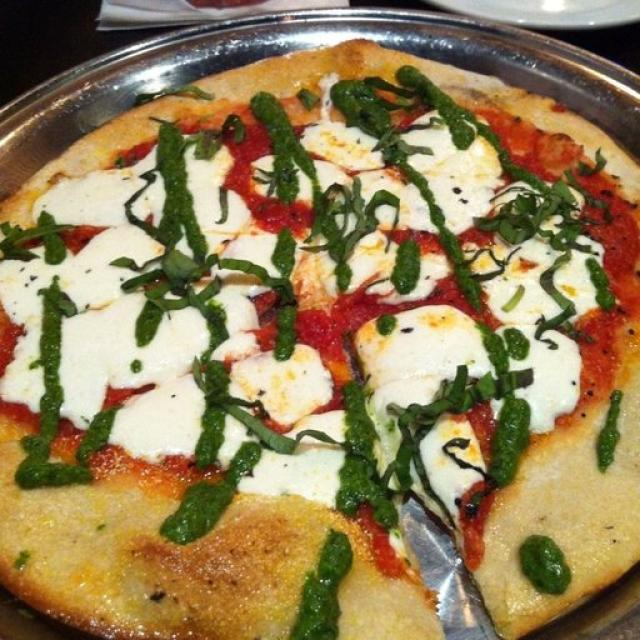Cheese: (436, 154, 496, 218), (65, 321, 118, 390), (367, 339, 442, 385), (149, 360, 190, 438), (82, 189, 123, 245), (412, 311, 466, 353), (309, 132, 370, 169), (541, 365, 578, 416), (0, 270, 35, 314), (231, 228, 270, 261), (198, 164, 218, 227)
Pizza: (0, 41, 640, 640)
